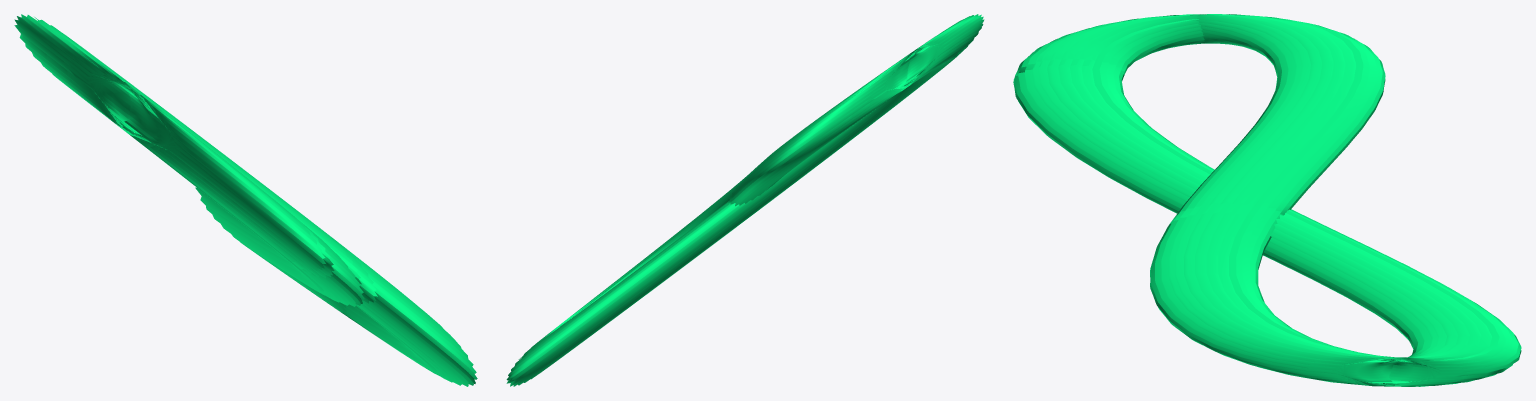
Rendered from analemma_sun_path_sketchfab_animated_1764298613133.glb.
3 views of the same model, side by side, from view 1: azimuth 30°, elevation 25°; view 2: azimuth 150°, elevation 25°; view 3: azimuth 270°, elevation 25° (orthographic). The views are drawn at different scales.
Visible parts, largest first — view 1: MathShape; view 2: MathShape; view 3: MathShape.
Part boxes in pixels (<box>): MathShape: <box>14,14,477,386</box>; MathShape: <box>506,14,984,386</box>; MathShape: <box>1013,14,1521,386</box>.
Bounding box in the file's own units: 2.01 × 2.25 × 3.94.
